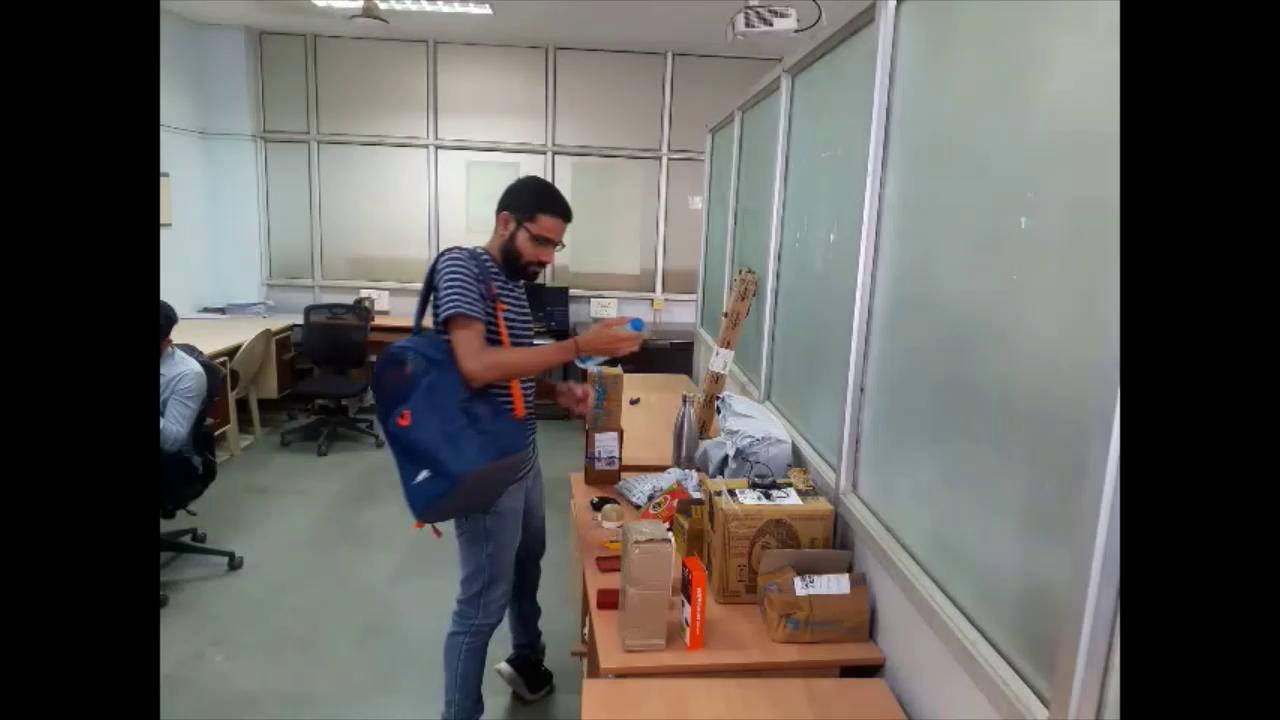Normal: (364, 163, 647, 720)
